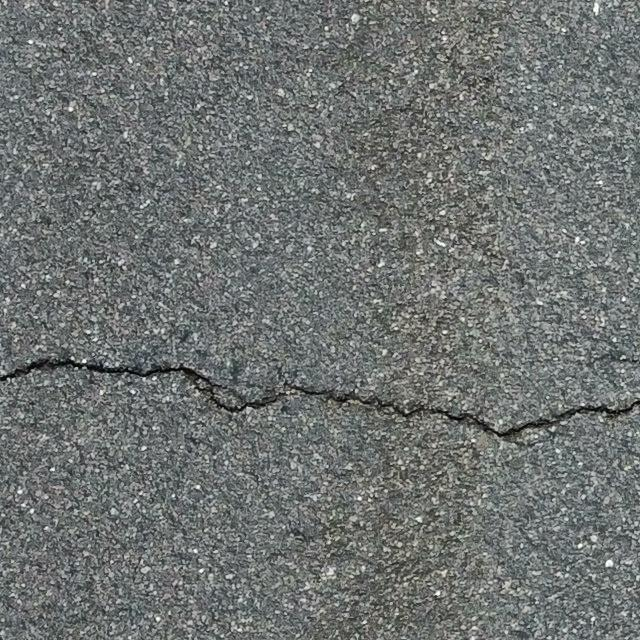TransverseCrack: (2, 355, 640, 440)
